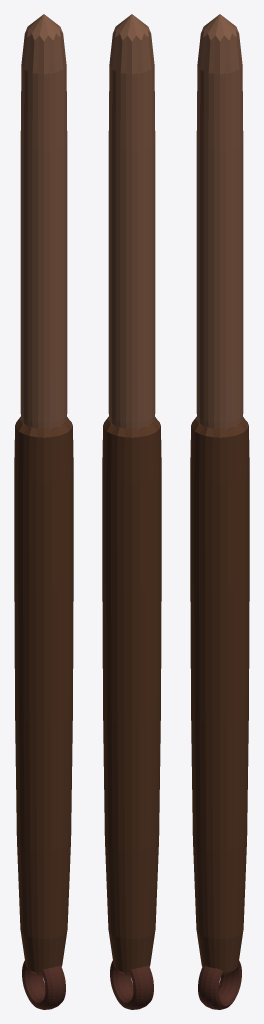
Rendered from Wand 11.glb.
3 views of the same model, side by side, from view 1: azimuth 30°, elevation 25°; view 2: azimuth 210°, elevation 25°; view 3: azimuth 330°, elevation 25° (orthographic).
Parts seen in each view (by area): view 1: GeneratedWand; view 2: GeneratedWand; view 3: GeneratedWand.
Part boxes in pixels (bbox=[...]): GeneratedWand: bbox=[14, 14, 73, 1009]; GeneratedWand: bbox=[102, 14, 161, 1009]; GeneratedWand: bbox=[190, 14, 249, 1009].
Bounding box in the file's own units: 0.0273 × 0.5033 × 0.0273.
